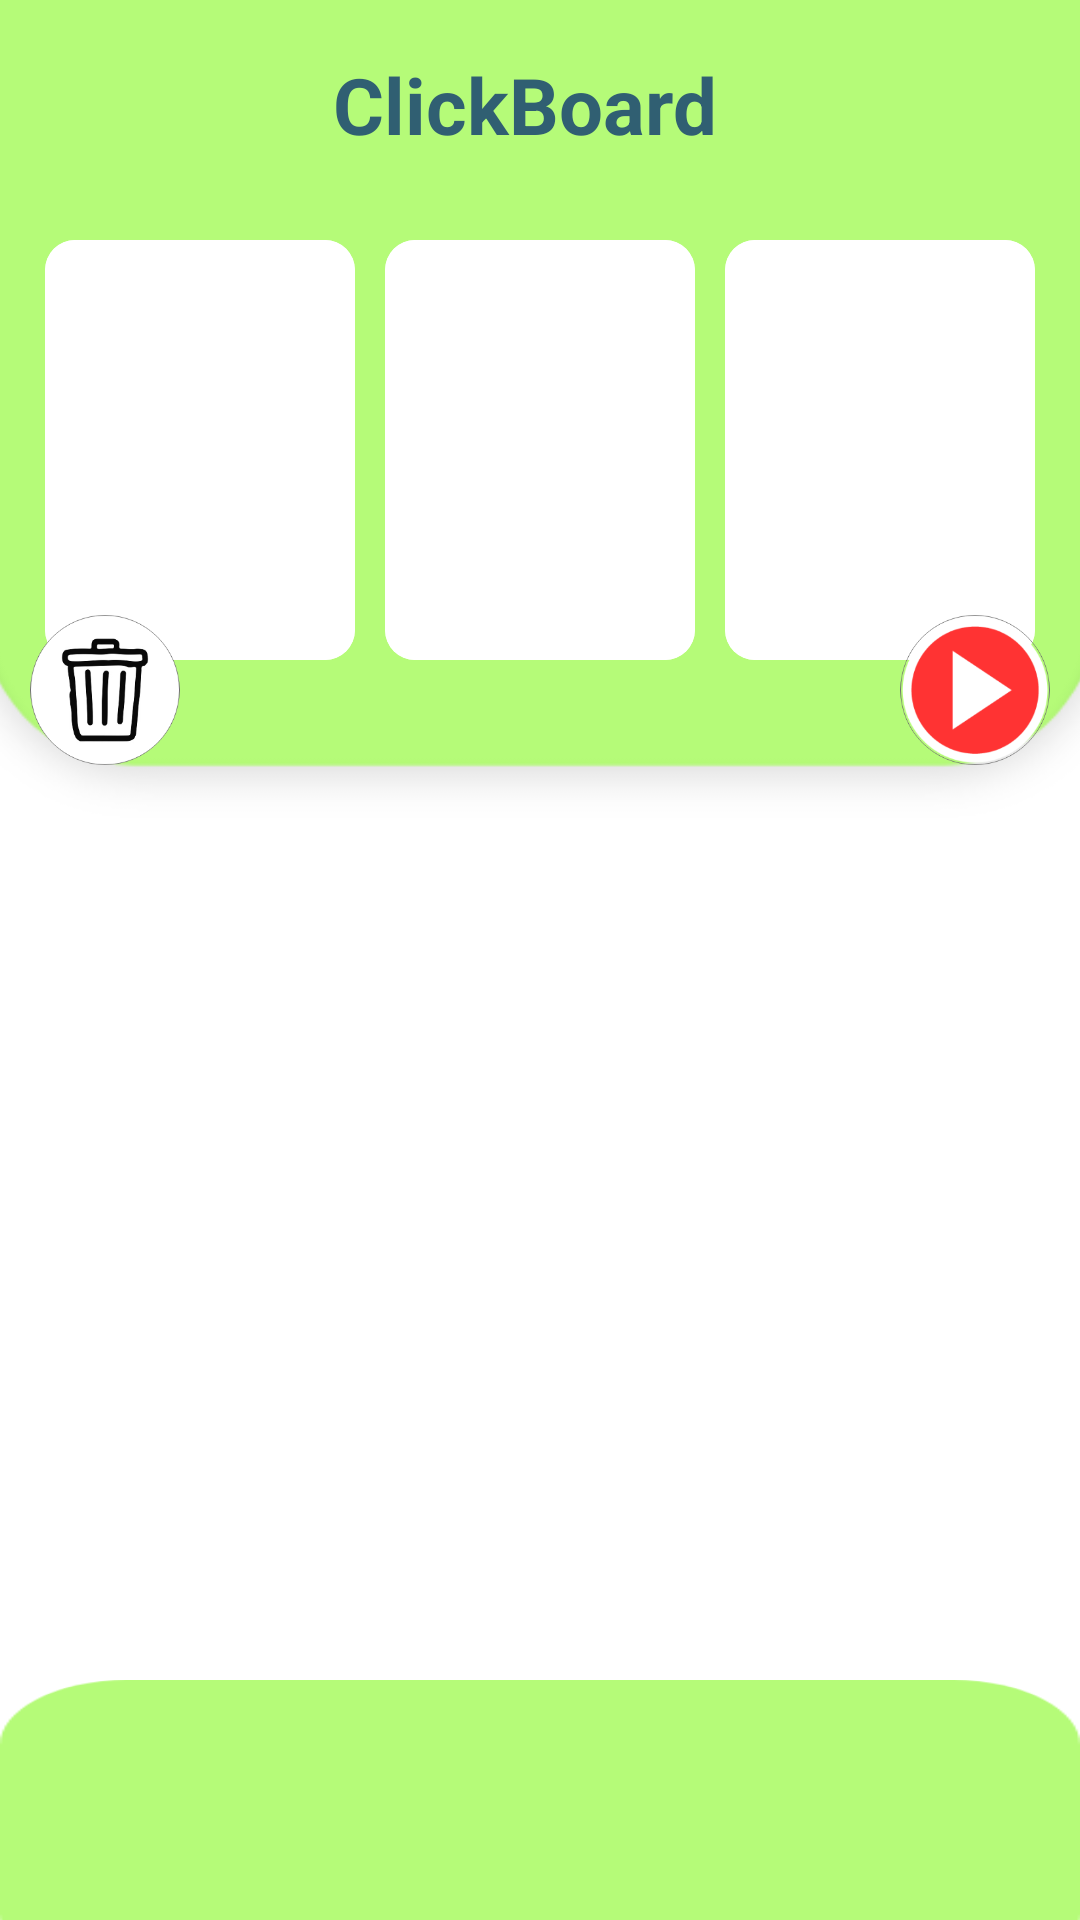

Where to tap for icons on this 1080 x 1920 app screen, as [x,y]:
deleteicon: [105,690]
playicon: [975,690]
